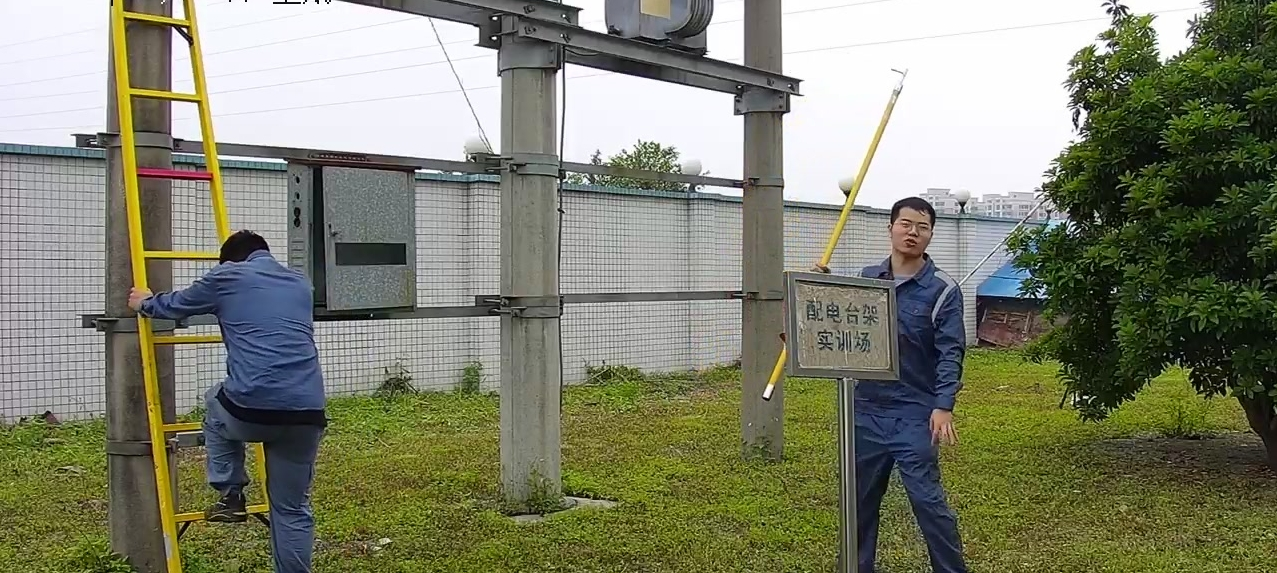安全帽、安全绳均未佩戴的工作人员: (126, 228, 327, 572)
未带安全帽的工作人员: (809, 195, 968, 572)
